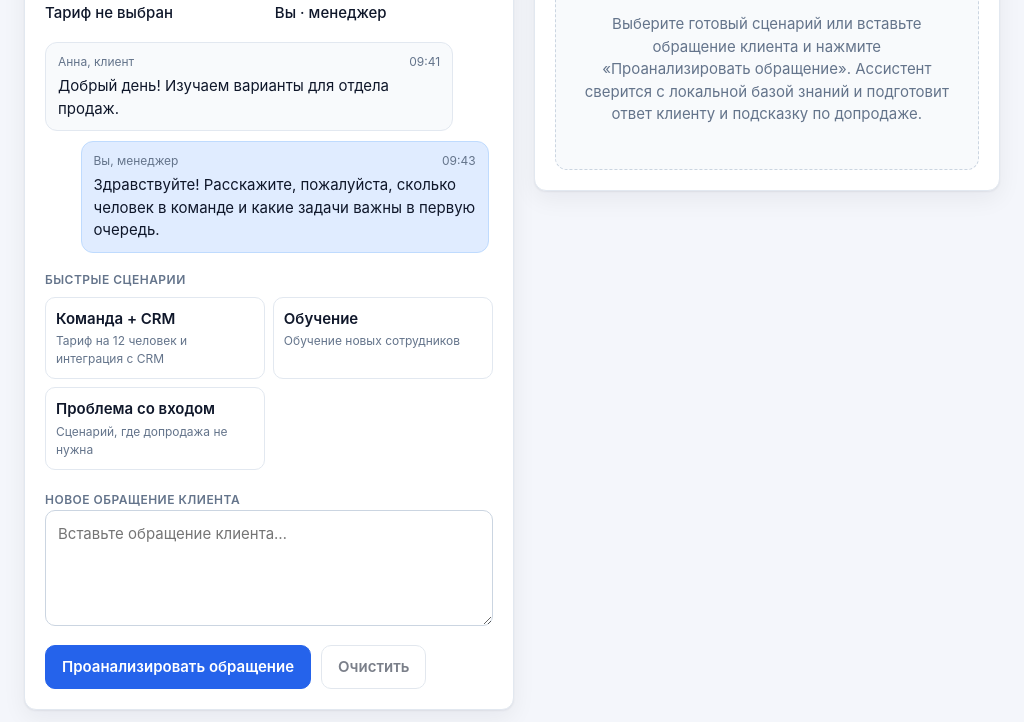
Test: App › показывает честный отказ от допродажи
(page scrolled)
Type "Не работает вход в личный кабинет, помогите" into the text box with test id "request-input" at (269,568), box [45,510,493,626]
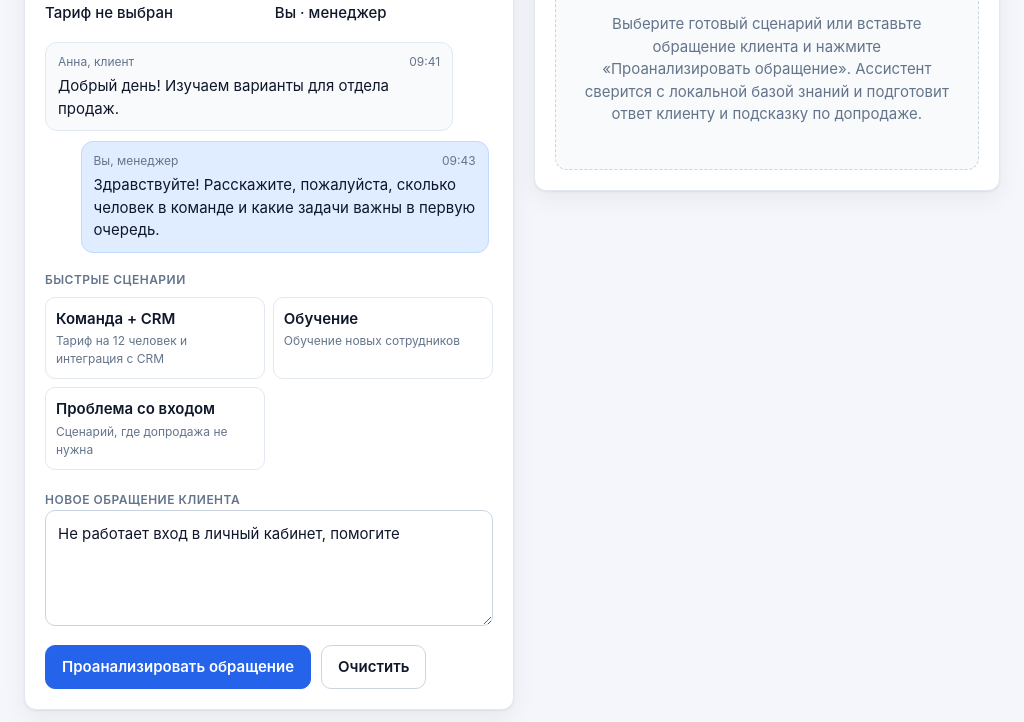
Click the button with test id "analyze-button" at (178,667), box [45,644,311,689]
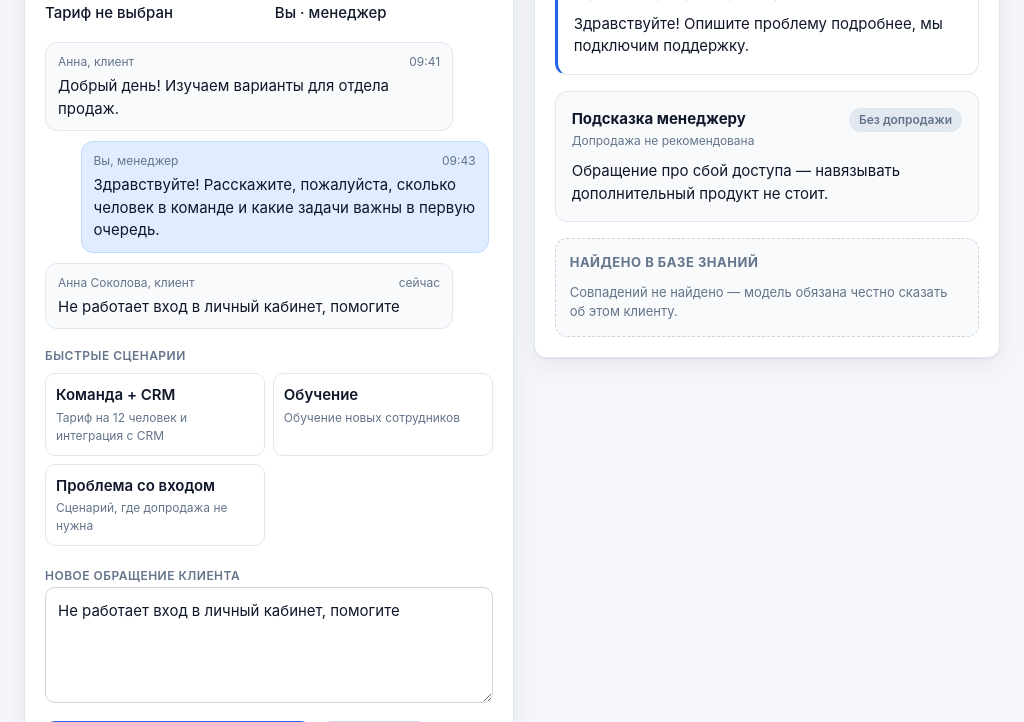
Expected: the element with test id "upsell-not-recommended" shows "не стоит", [572,161,904,202]
